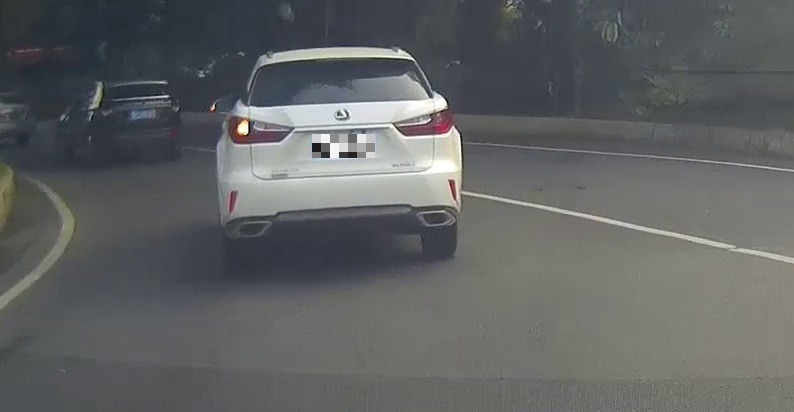L_light: (229, 114, 295, 145)
R_light: (393, 104, 453, 138)
T_light: (313, 58, 351, 62)
day-left: (215, 46, 462, 271)
plate_1: (312, 134, 375, 158)
